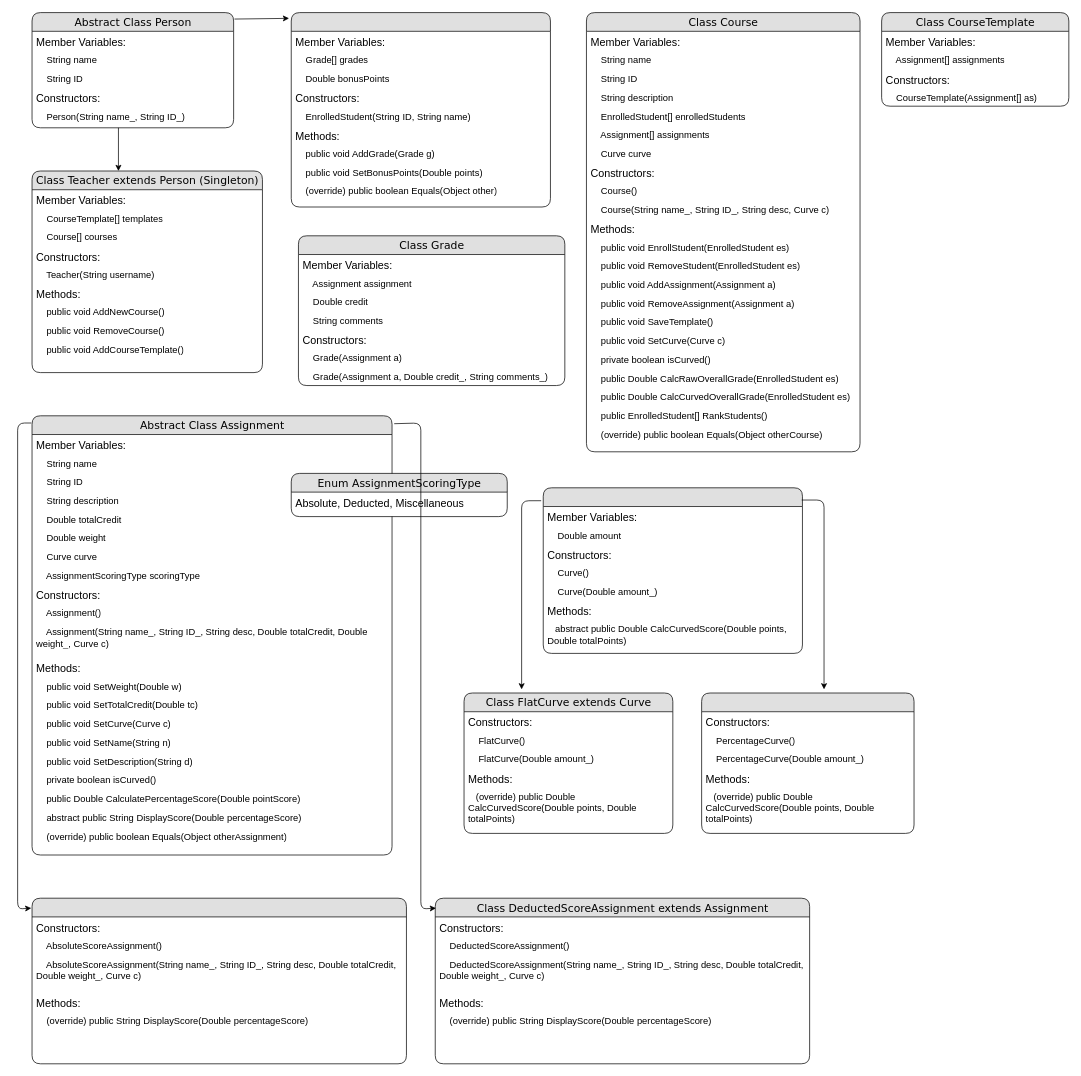
The diagram is 1081 pixels wide and 1076 high, and some of its shapes have lost their labels. Each missing label, with the box of its shape:
Abstract Class Curve: (543, 487, 802, 653)
Class AbsoluteScoreAssignment extends Assignment: (31, 897, 406, 1064)
Class EnrolledStudent extends Person: (291, 12, 550, 207)
Class PercentageCurve extends Curve: (701, 692, 914, 833)
